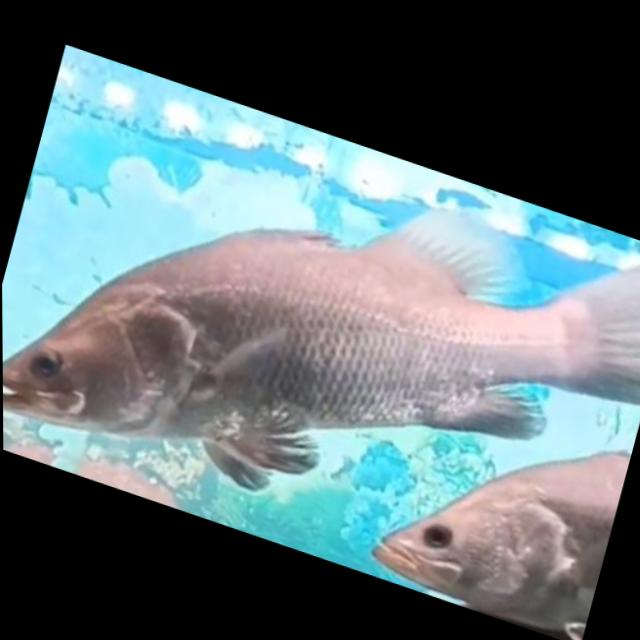Seabass: (0, 45, 640, 616), (358, 373, 633, 640)
